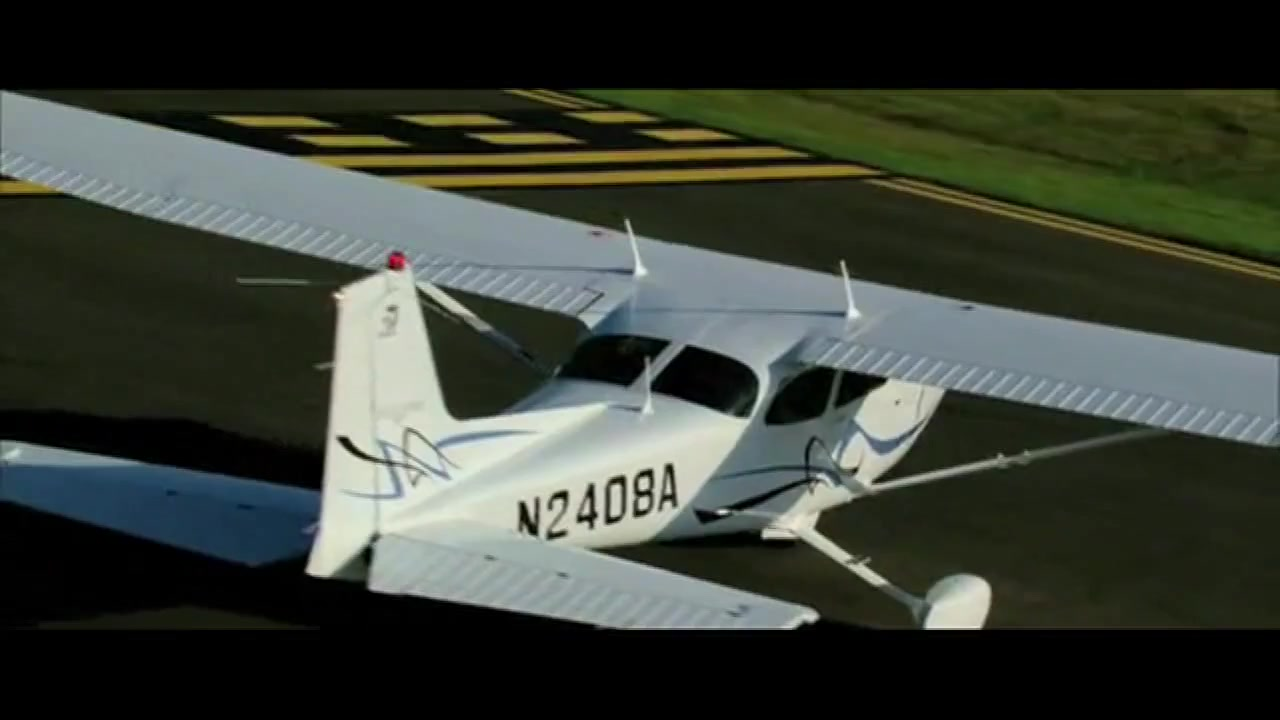aeroplane: (3, 88, 1280, 637)
